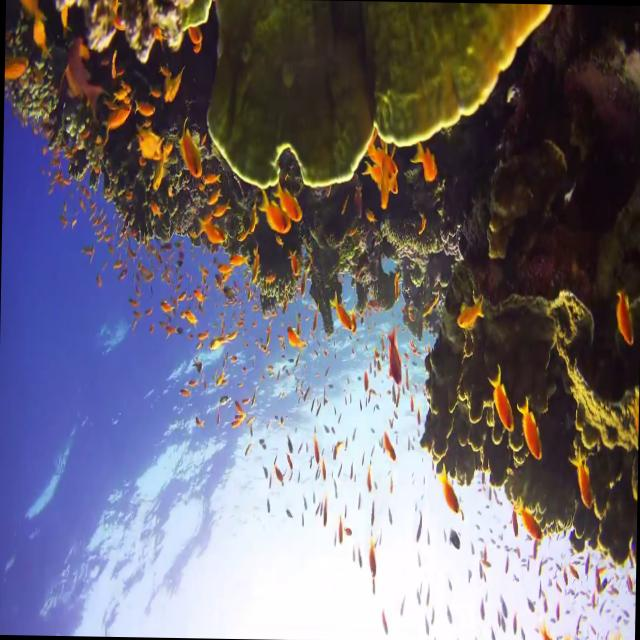fish: (480, 360, 520, 437), (514, 389, 546, 470), (178, 112, 206, 191), (381, 324, 409, 394), (273, 174, 305, 235), (455, 280, 489, 336), (4, 40, 40, 92), (325, 288, 356, 346), (569, 448, 597, 512), (257, 188, 290, 242), (512, 494, 546, 544), (614, 280, 636, 355), (96, 98, 130, 146), (408, 141, 441, 189), (436, 463, 464, 519), (281, 316, 307, 362), (192, 218, 226, 252), (371, 171, 392, 223), (376, 424, 400, 468), (132, 95, 156, 133), (365, 540, 381, 585), (212, 195, 232, 229)
